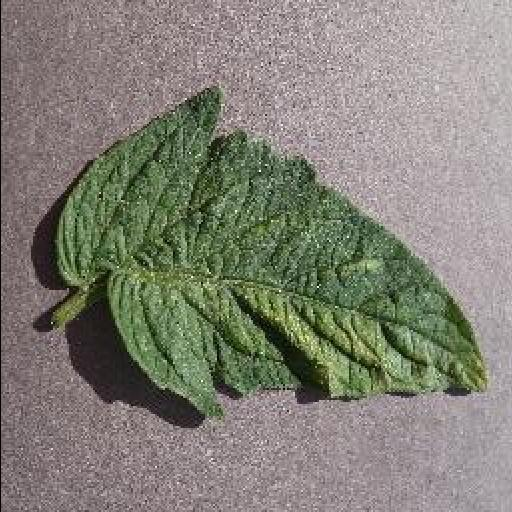disease_tomato: (56, 94, 486, 420)
